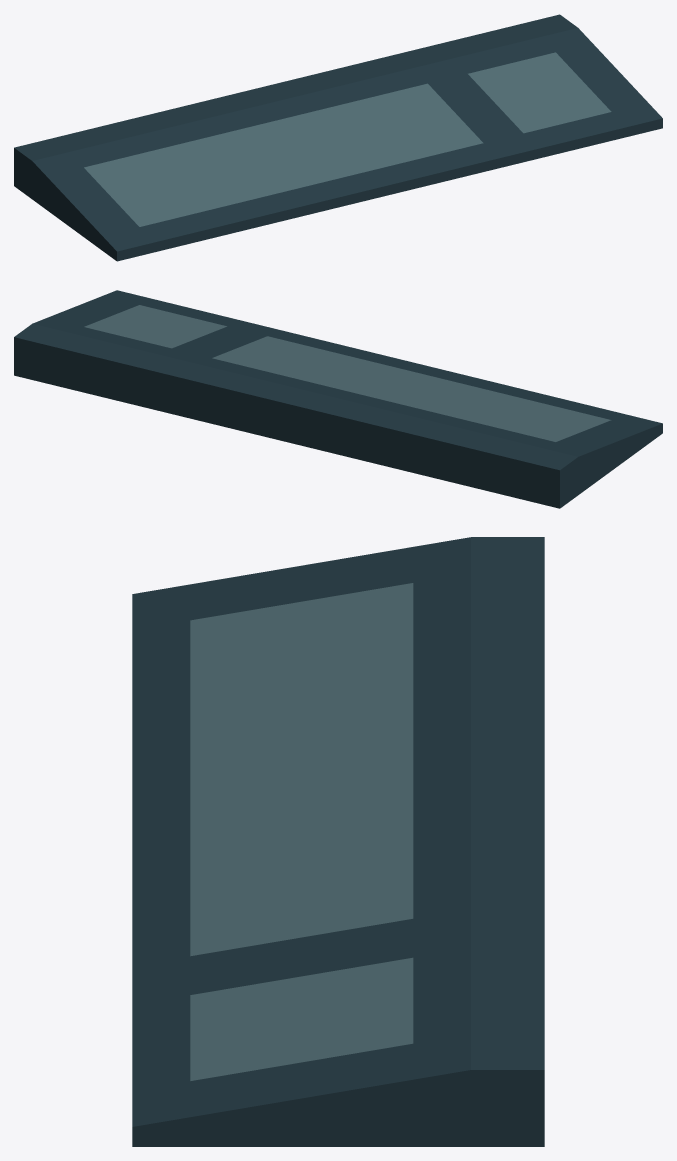
Rendered from Keyboard.glb.
The picture shows the model from 3 angles, top to bottom: view 1: azimuth 30°, elevation 25°; view 2: azimuth 150°, elevation 25°; view 3: azimuth 270°, elevation 25°; orthographic projection. The views are drawn at different scales.
Visible parts, largest first — view 1: computerKeyboard(Clone); view 2: computerKeyboard(Clone); view 3: computerKeyboard(Clone).
Boxes of the visible parts, left/top/right/bottom form: computerKeyboard(Clone): left=14, top=14, right=662, bottom=261; computerKeyboard(Clone): left=14, top=290, right=662, bottom=508; computerKeyboard(Clone): left=132, top=537, right=544, bottom=1146.
Bounding box in the file's own units: 0.52 × 0.035 × 0.17.
